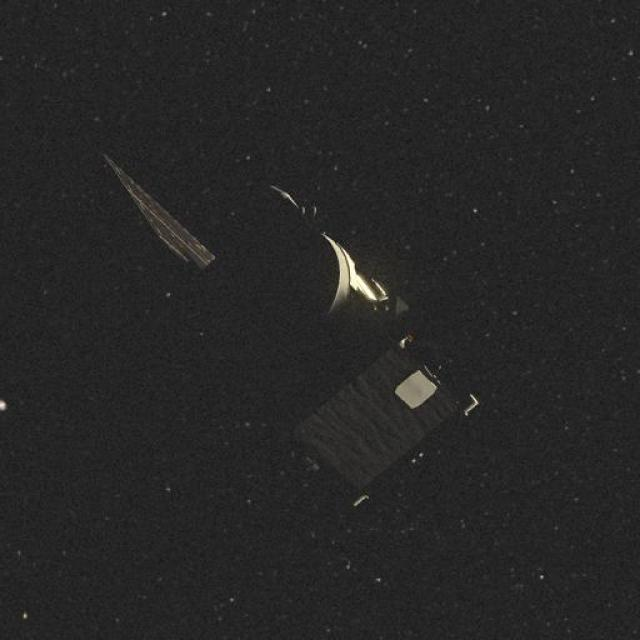proba_3_csc: (49, 128, 512, 538)
